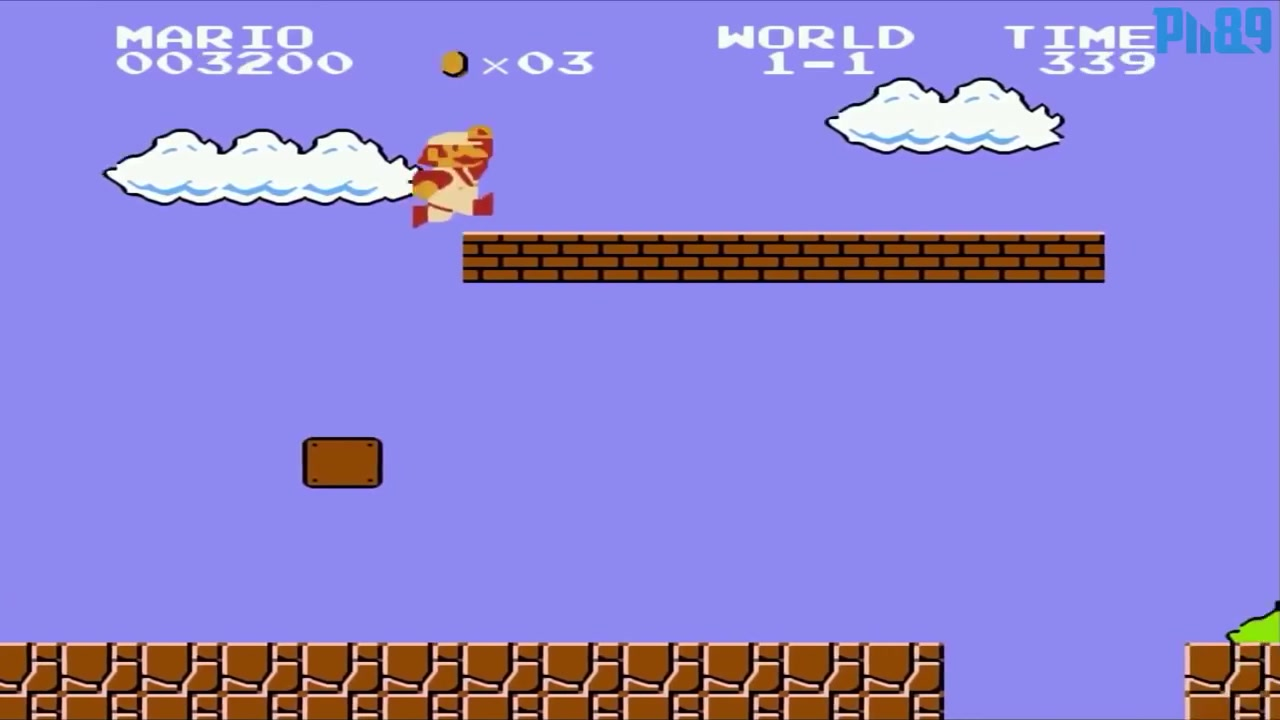mario: (390, 119, 501, 231)
